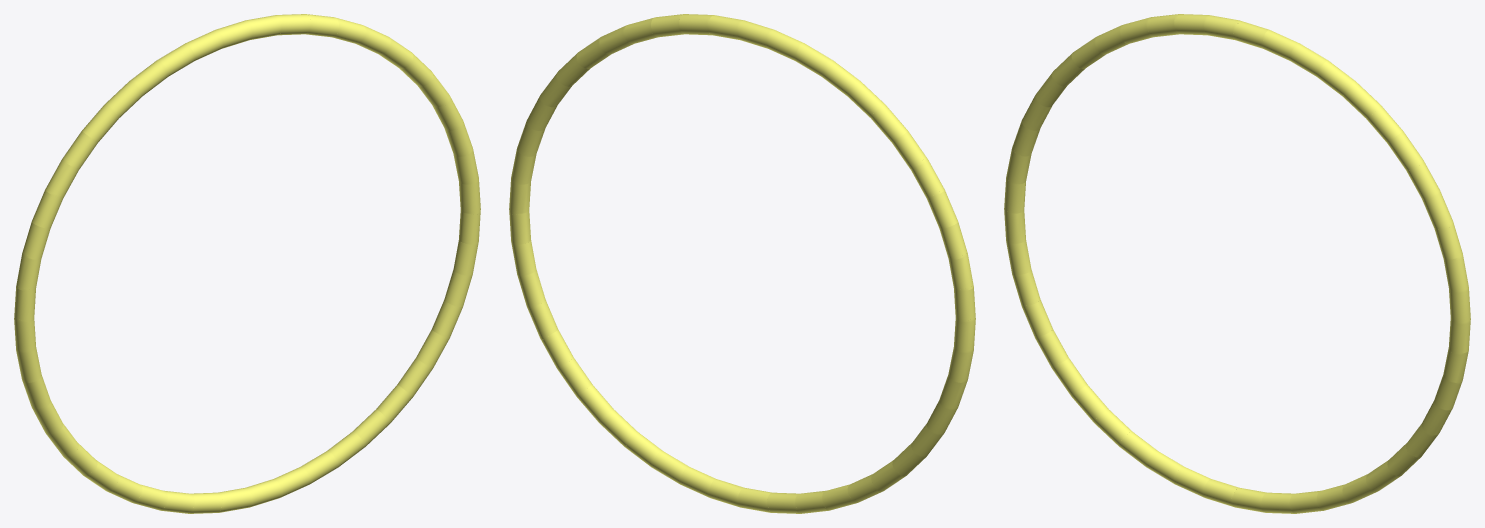
3 views of the same model, side by side, from view 1: azimuth 30°, elevation 25°; view 2: azimuth 150°, elevation 25°; view 3: azimuth 330°, elevation 25° (orthographic).
Parts seen in each view (by area): view 1: 85544.dat; view 2: 85544.dat; view 3: 85544.dat.
Boxes of the visible parts, bbox=[...] form: 85544.dat: bbox=[14, 14, 480, 513]; 85544.dat: bbox=[509, 14, 975, 513]; 85544.dat: bbox=[1004, 14, 1470, 513].
Bounding box in the file's own units: 0.0316 × 0.0316 × 0.0012.
